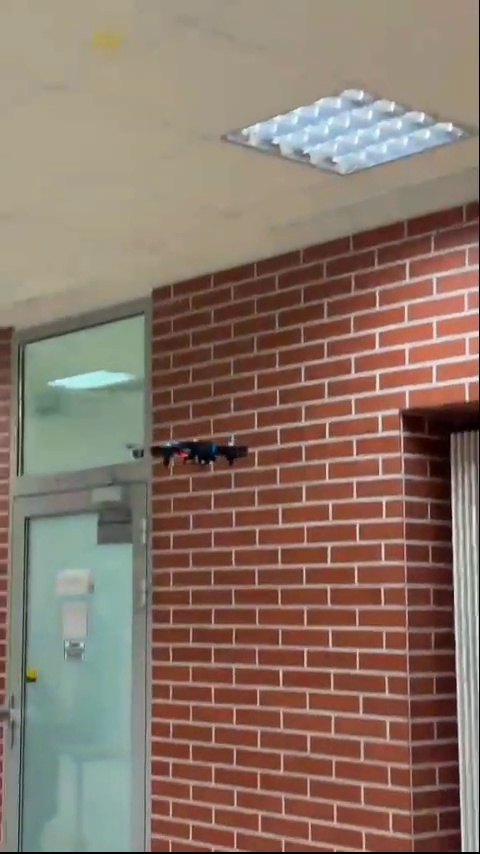drone: (152, 430, 251, 471)
